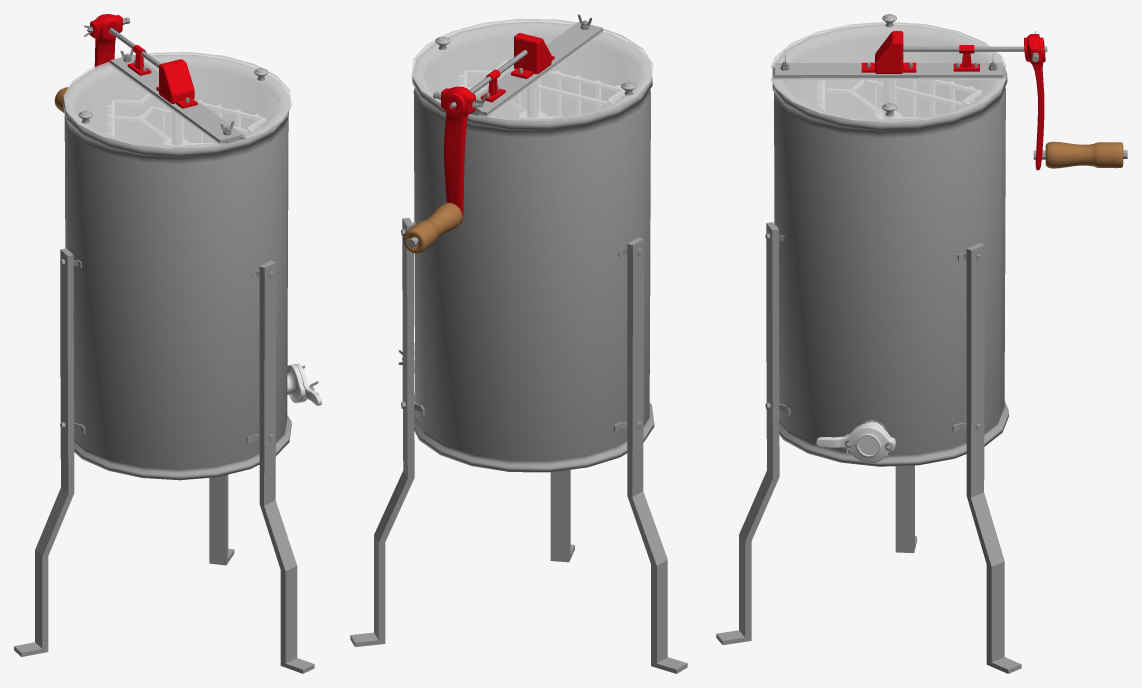
File: Mesh_Honey_Extractor_Tex_001.fbx
The picture shows the model from 3 angles, left to right: view 1: azimuth 30°, elevation 25°; view 2: azimuth 150°, elevation 25°; view 3: azimuth 270°, elevation 25°; orthographic projection. The views are drawn at different scales.
Visible parts, largest first — view 1: Mesh_Honey_Strainer, Mesh_Honey_Strainer._Lid, Mesh_Honey_Strainer_Cage, Mesh_Honey_Strainer._Nosle; view 2: Mesh_Honey_Strainer, Mesh_Honey_Strainer._Lid, Mesh_Honey_Strainer_Cage; view 3: Mesh_Honey_Strainer, Mesh_Honey_Strainer._Lid, Mesh_Honey_Strainer_Cage, Mesh_Honey_Strainer._Nosle.
Boxes of the visible parts, <box> form: Mesh_Honey_Strainer: <box>14,14,314,673</box>; Mesh_Honey_Strainer._Lid: <box>63,52,291,149</box>; Mesh_Honey_Strainer_Cage: <box>108,93,265,145</box>; Mesh_Honey_Strainer._Nosle: <box>287,363,321,405</box>; Mesh_Honey_Strainer: <box>350,14,687,673</box>; Mesh_Honey_Strainer._Lid: <box>411,18,652,122</box>; Mesh_Honey_Strainer_Cage: <box>459,60,624,117</box>; Mesh_Honey_Strainer: <box>716,25,1127,673</box>; Mesh_Honey_Strainer._Lid: <box>771,14,1006,123</box>; Mesh_Honey_Strainer_Cage: <box>818,80,981,118</box>; Mesh_Honey_Strainer._Nosle: <box>816,420,896,463</box>.
Size of the model in its own units: 294 by 562 by 361.
